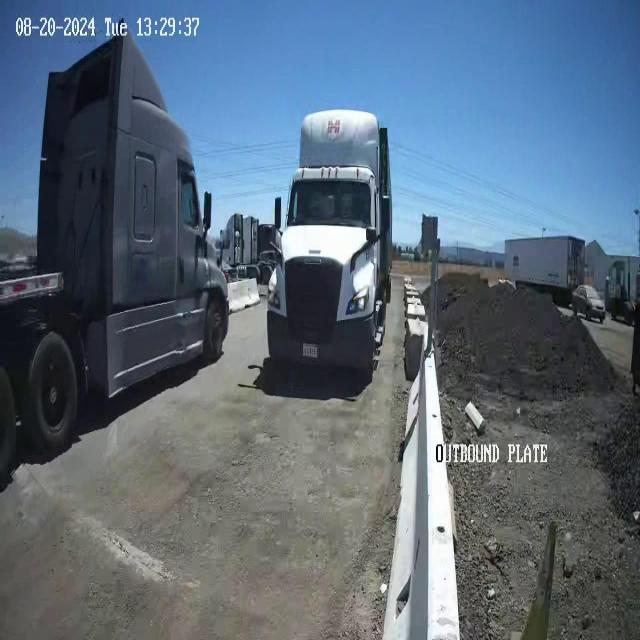TRUCK_IN: (266, 107, 392, 385)
